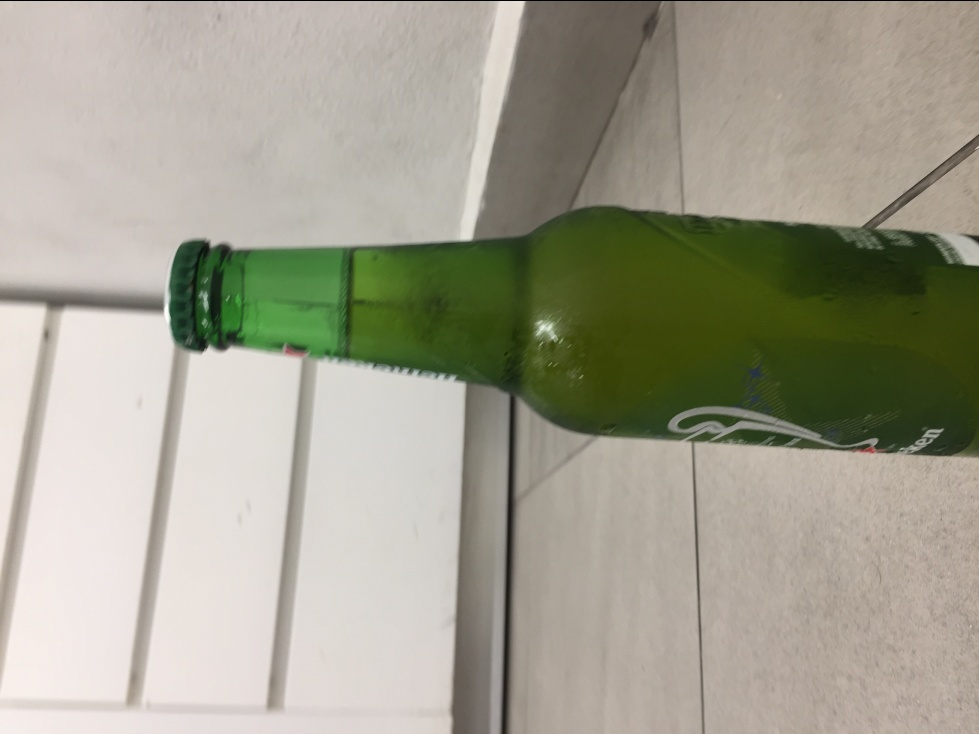heineken: (160, 202, 978, 464)
